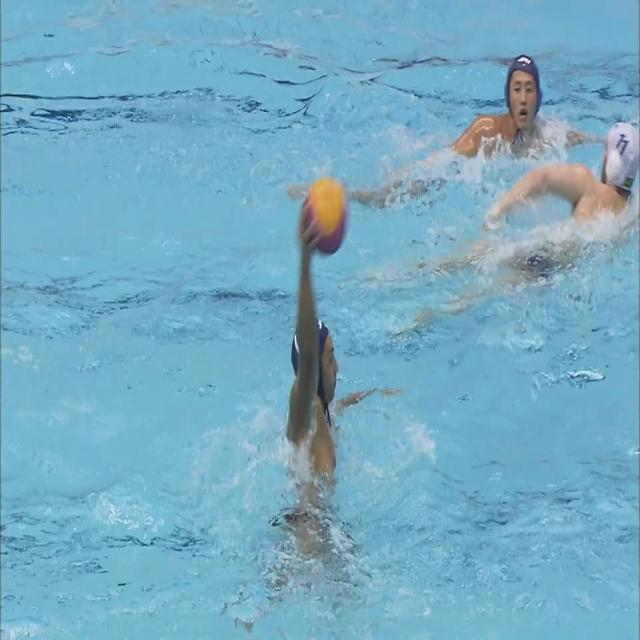ball: (307, 178, 347, 256)
